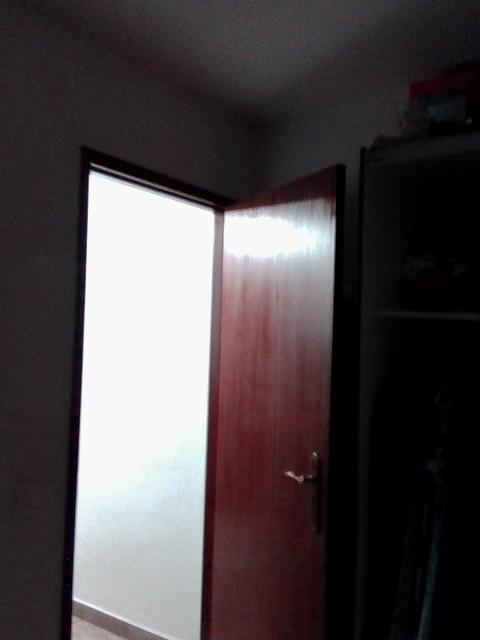open_door: (63, 143, 236, 638)
